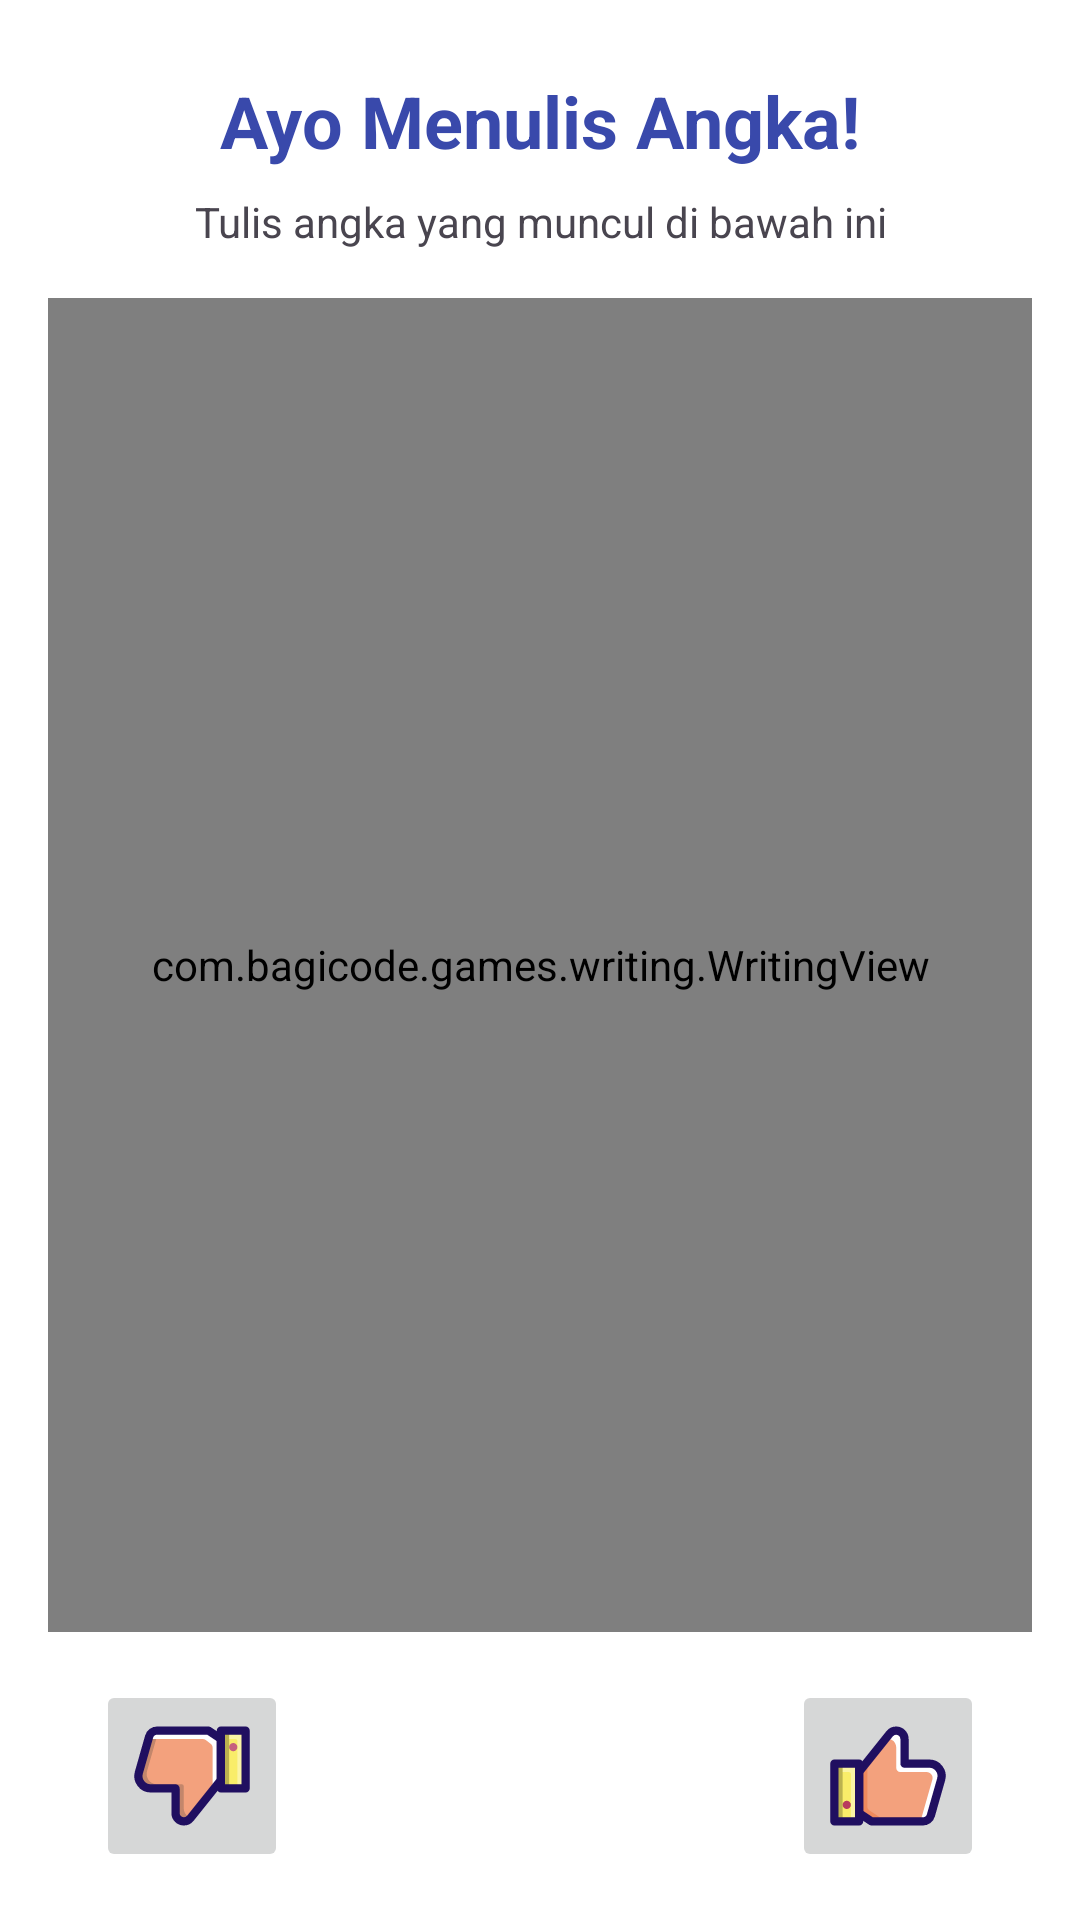

Named icons in this screenshot (1080*1920) and their bounding boxes, box(x1, y1, x2, y2):
approve: box(804, 1698, 972, 1854)
dislike: box(108, 1698, 276, 1854)
